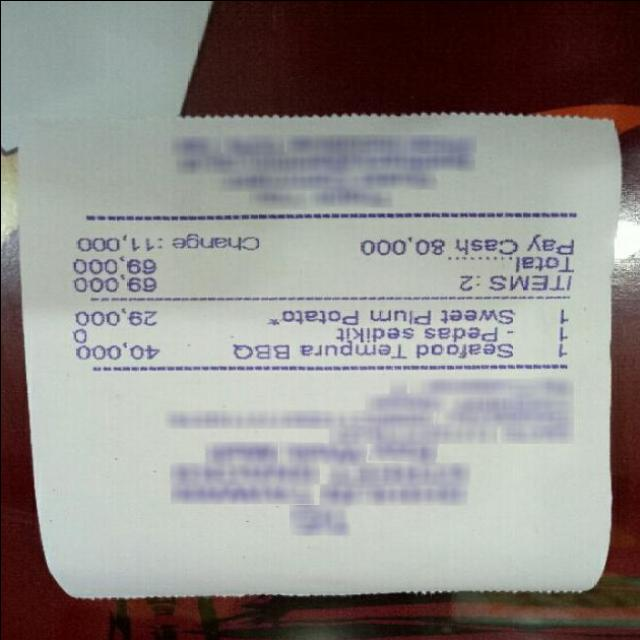kertas: (17, 110, 625, 598)
